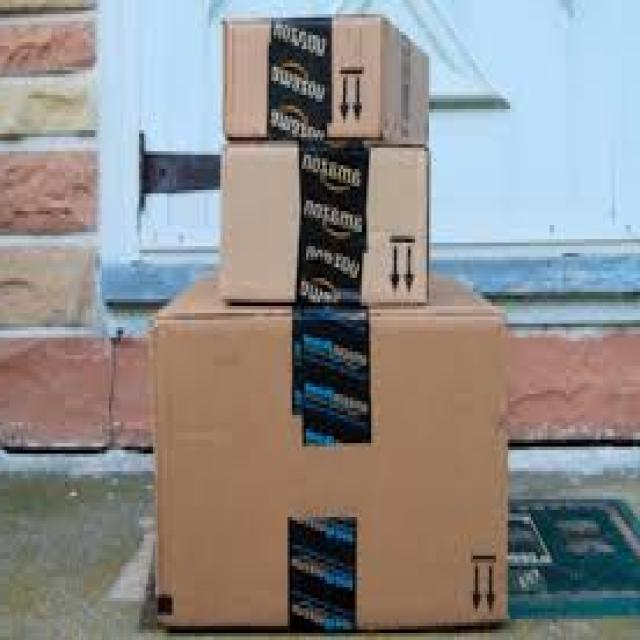cardboxes: (150, 274, 509, 635), (218, 137, 428, 307), (227, 15, 430, 144)
